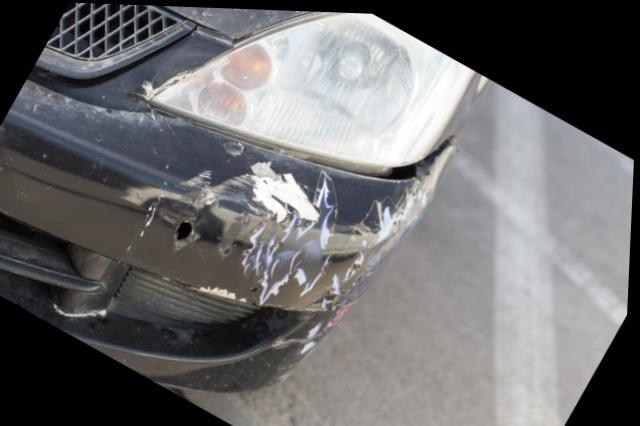scratch: (157, 134, 432, 375)
